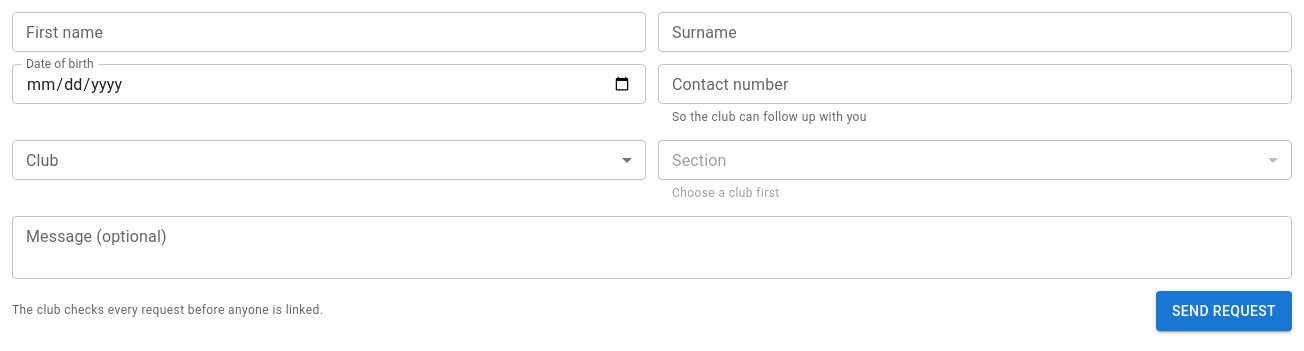
it: LinkRequestForm › section (docs/specs/121) › clears the chosen section when the club changes
The width and height of the screenshot is (1304, 351).
Click the 1st dropdown named "Club": point(329, 160) [12,140,646,180]
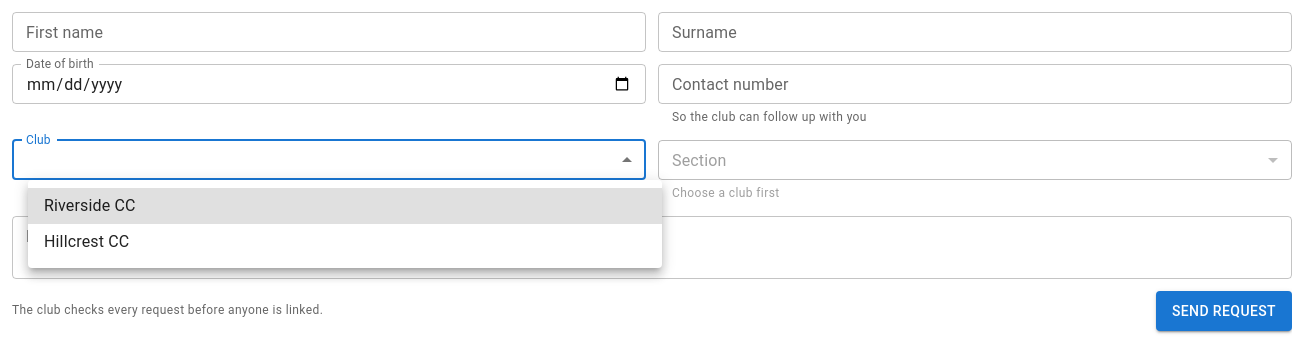
Click the option "Riverside CC": point(90, 206) [28,188,662,224]
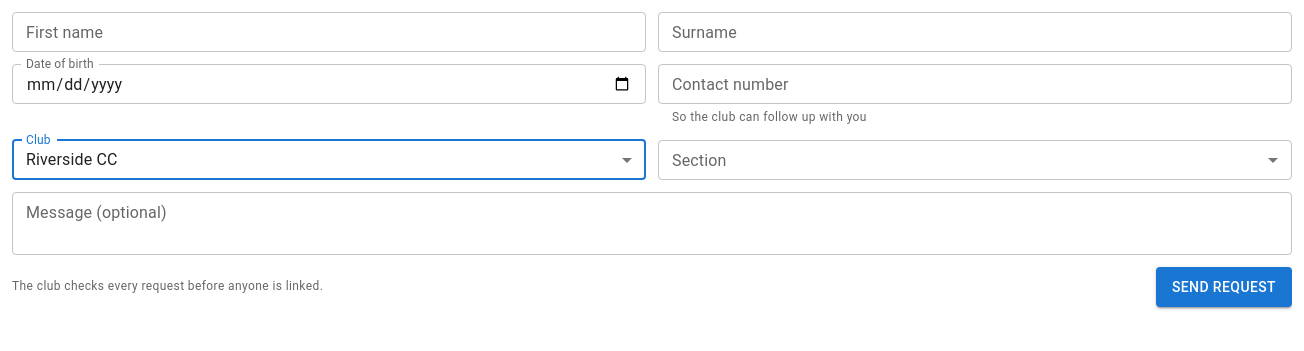
Now the dropdown named "Section" does not have attribute aria-disabled="true"
Click the dropdown named "Section": point(975, 160) [658,140,1292,180]
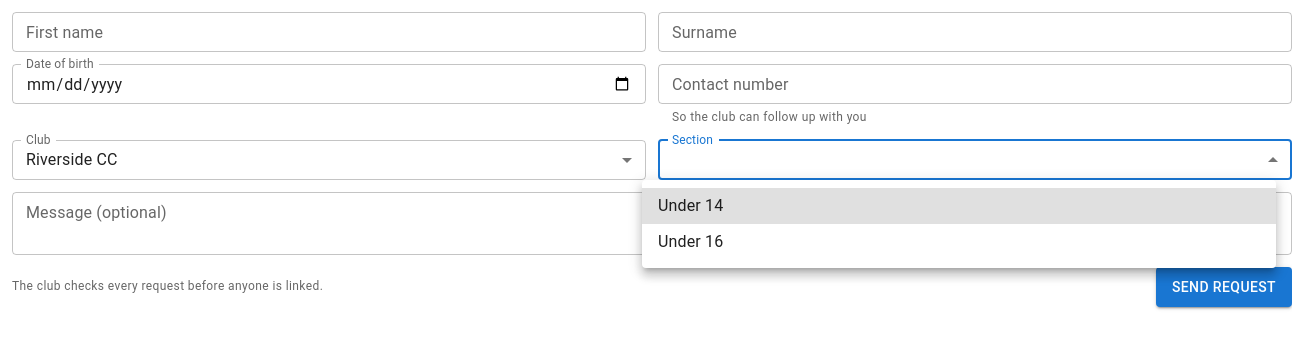
Click the option "Under 16": point(691, 242) [658,232,723,251]
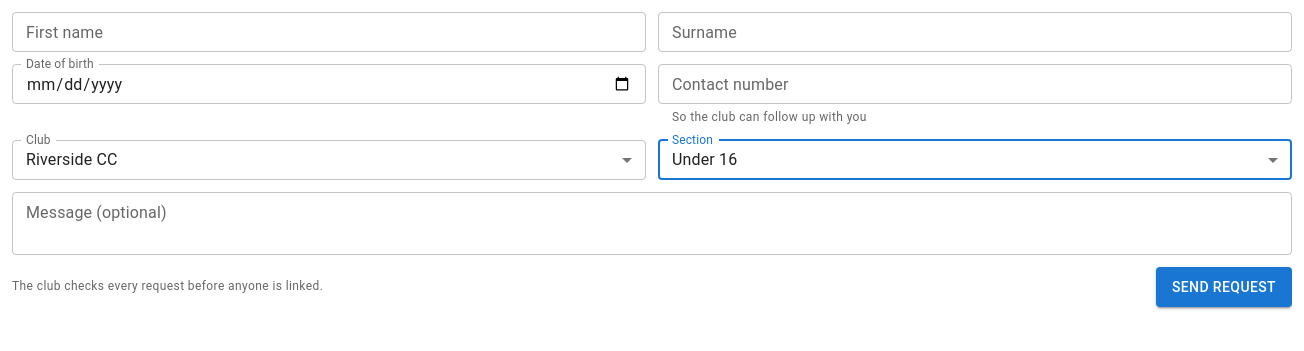
Now the dropdown named "Section" reads "Under 16", box [672,150,737,169]
Click the dropdown named "Club": point(72, 160) [26,150,118,169]
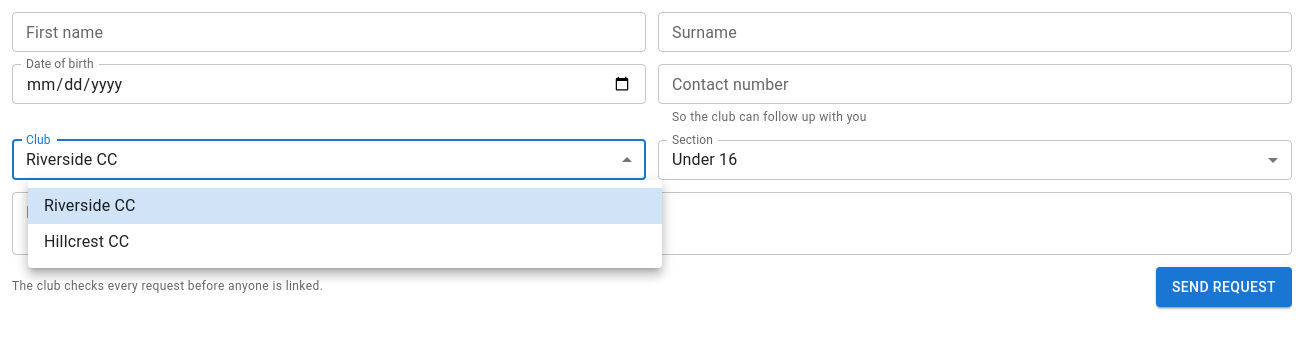
Click the option "Hillcrest CC": point(87, 242) [44,232,129,251]
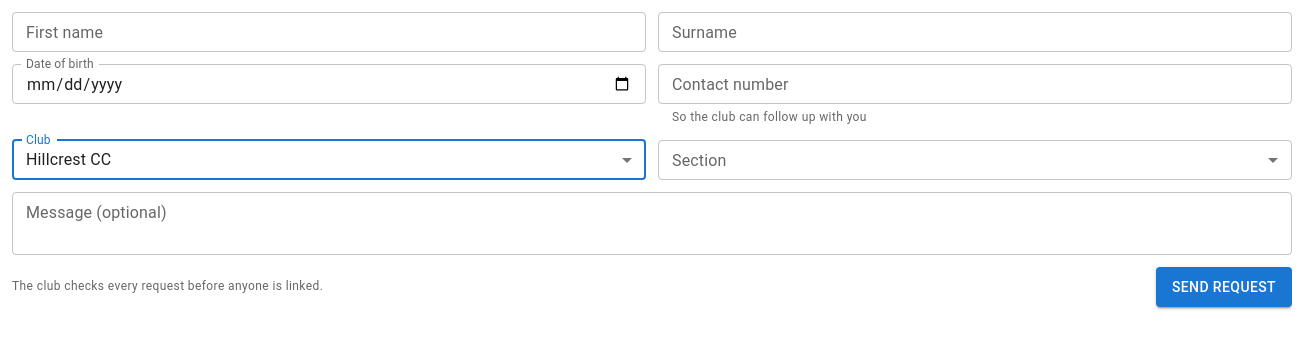
Now the dropdown named "Section" no longer shows "Under 16", box [658,140,1292,180]
